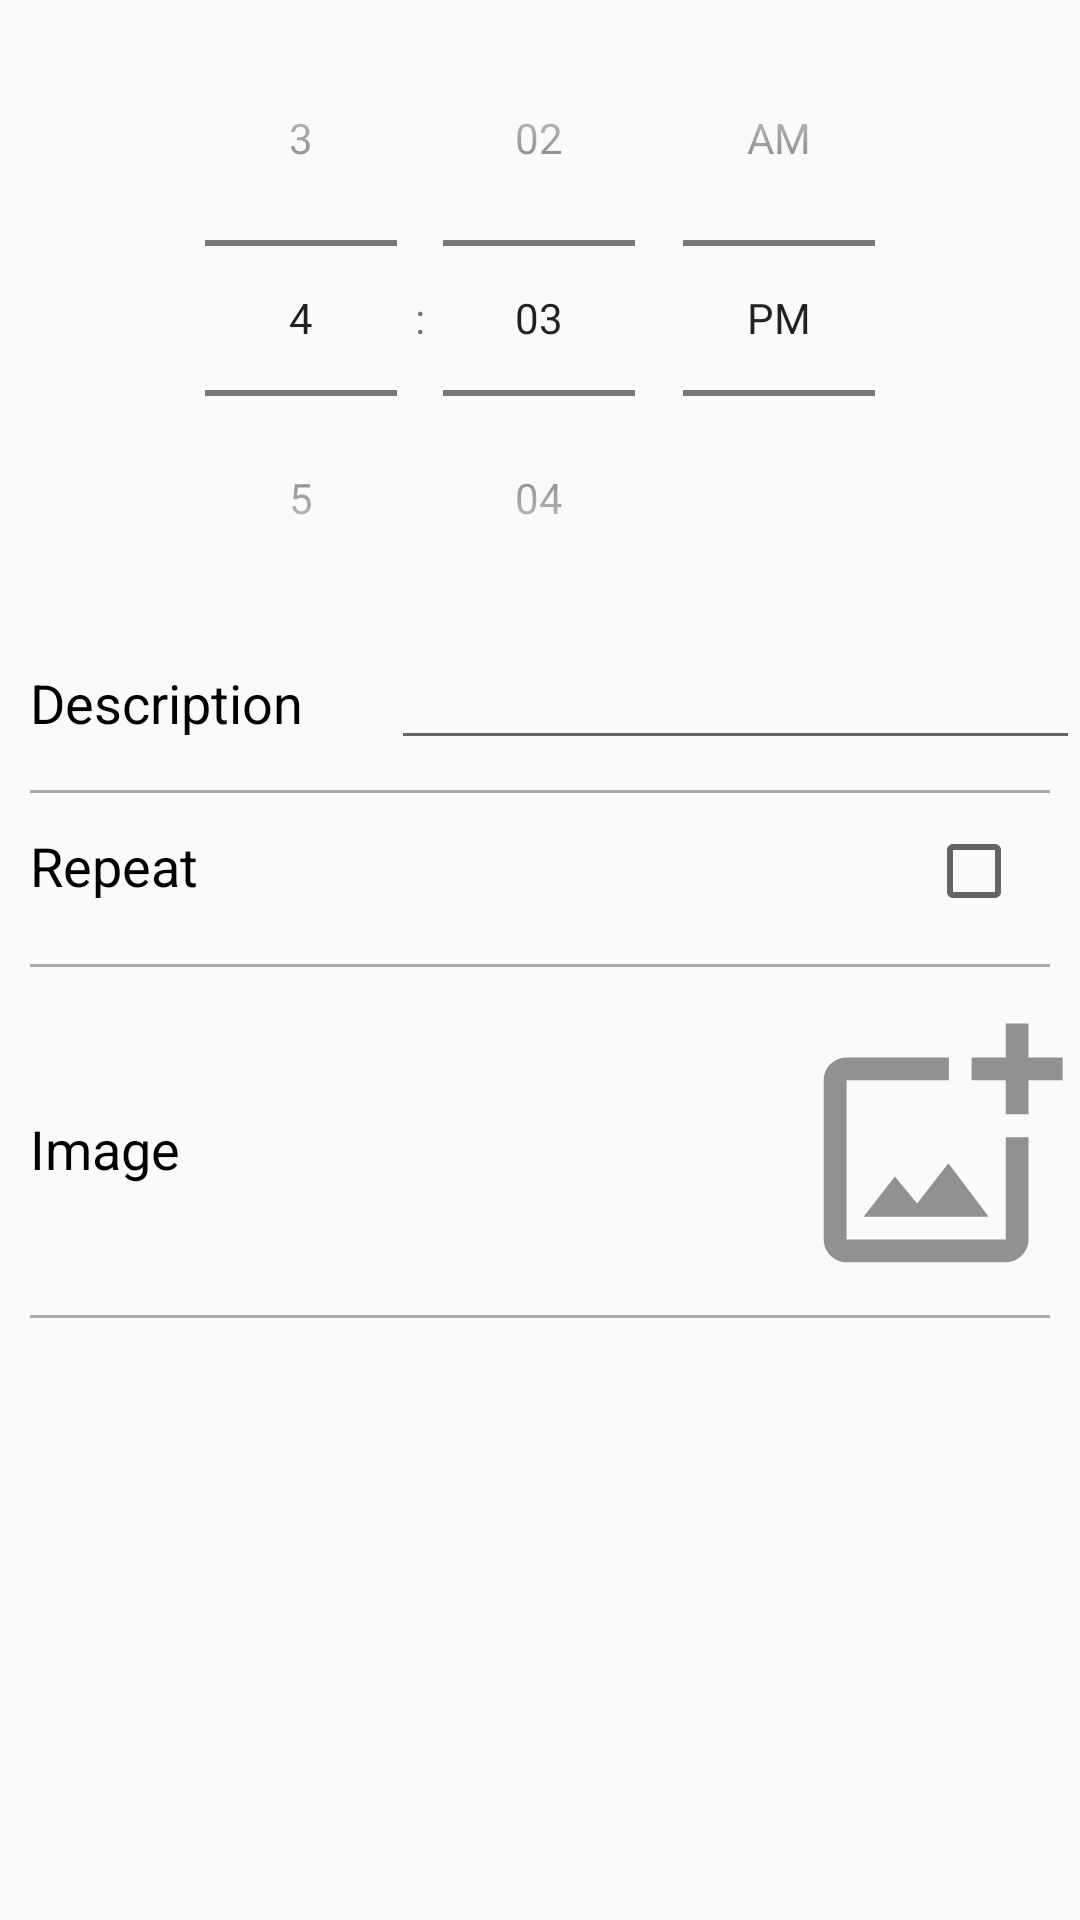

Screen size 1080 x 1920. Icon name, then its box in pixels as (x1, y1, x2, y2):
add photo alternate: (823, 1023, 1063, 1263)
